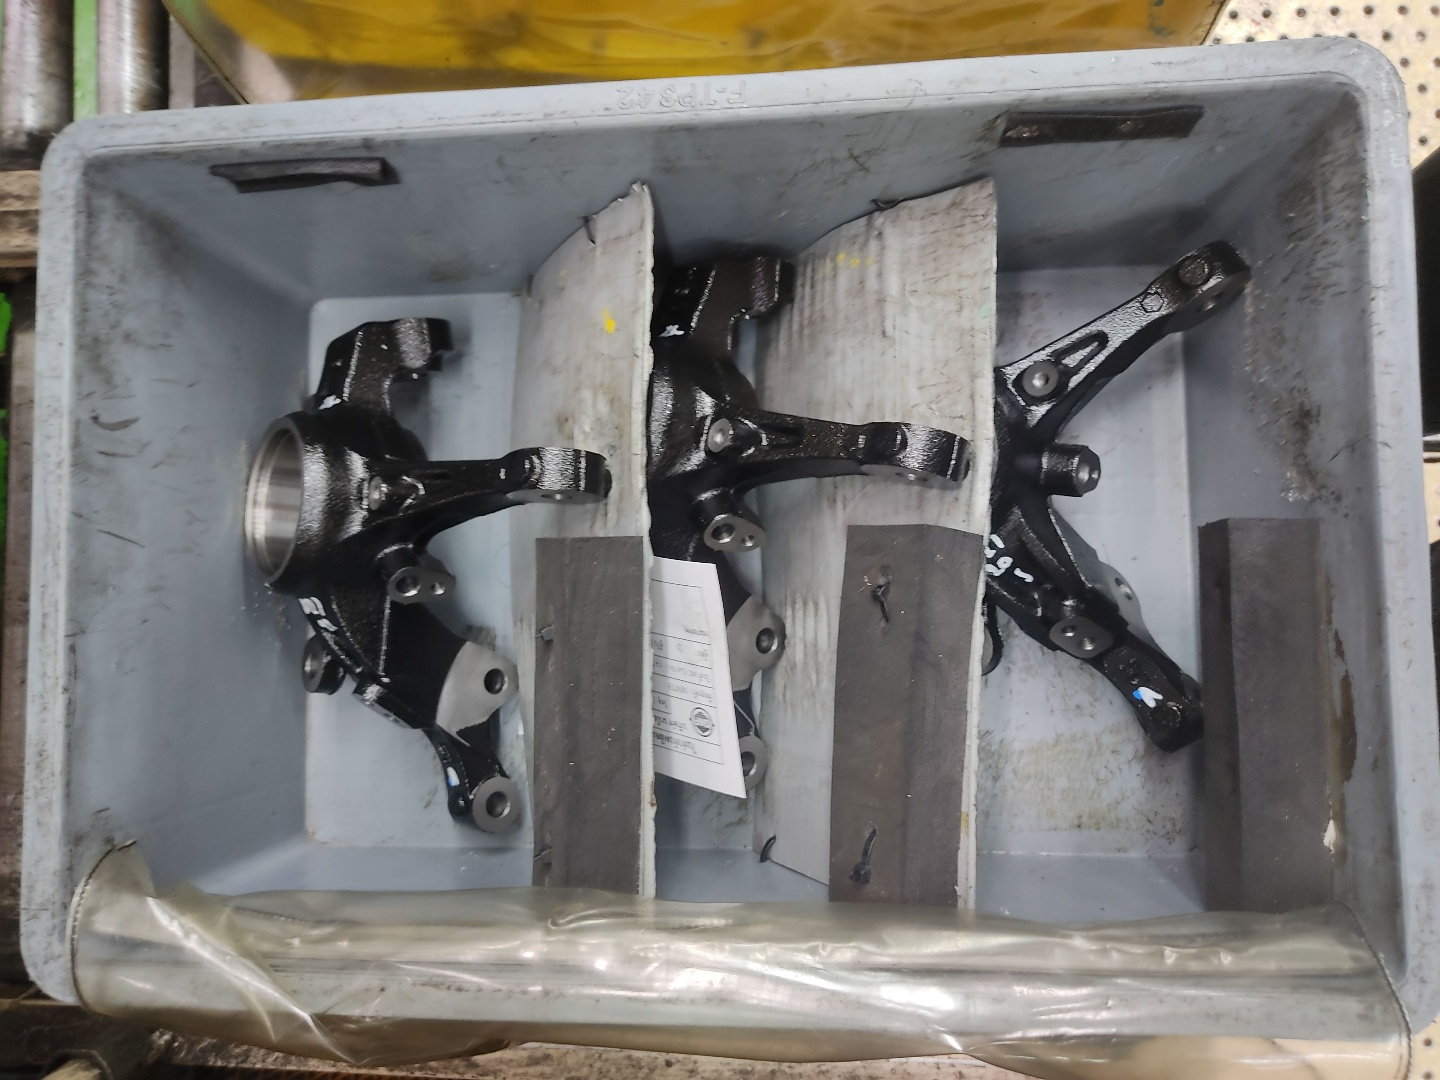abs-rh: (237, 306, 615, 852), (644, 239, 979, 820), (975, 230, 1235, 793)
